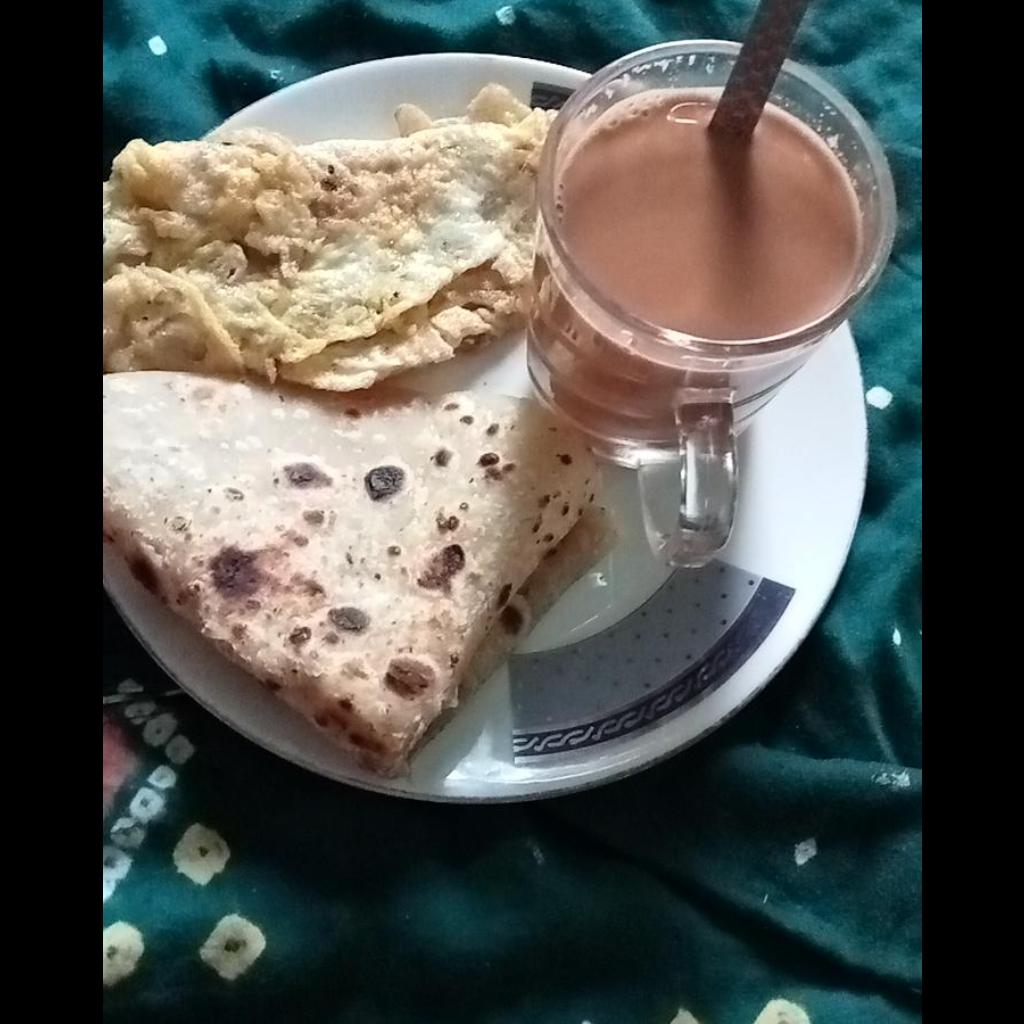cha: (554, 103, 871, 334)
egg-poached: (102, 84, 544, 388)
ruti: (103, 364, 621, 770)
